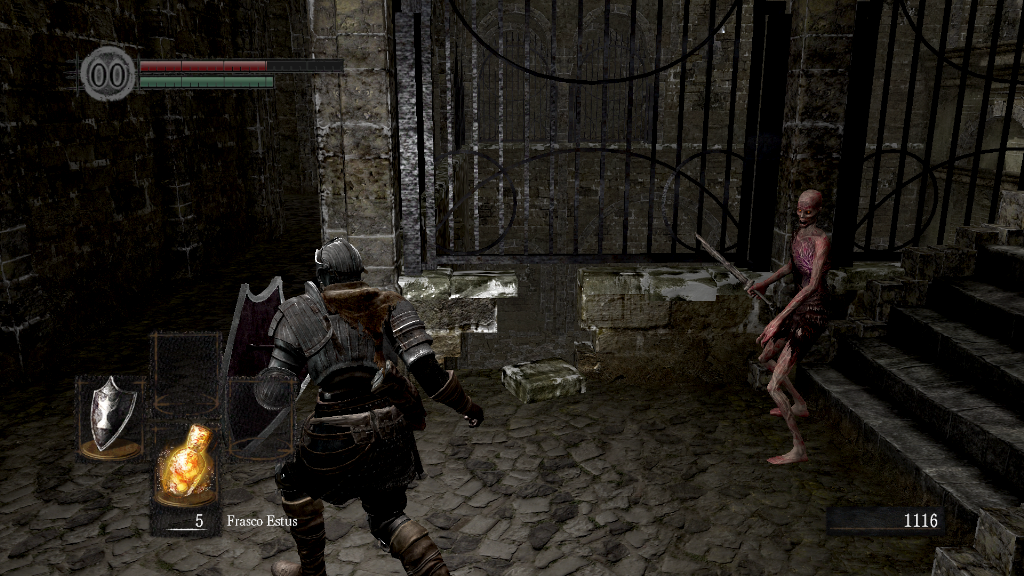health: (138, 58, 343, 71)
hollow: (746, 189, 836, 467)
humanity: (80, 45, 136, 102)
player: (218, 239, 486, 576)
souls: (825, 506, 945, 536)
stamina: (138, 74, 274, 88)
